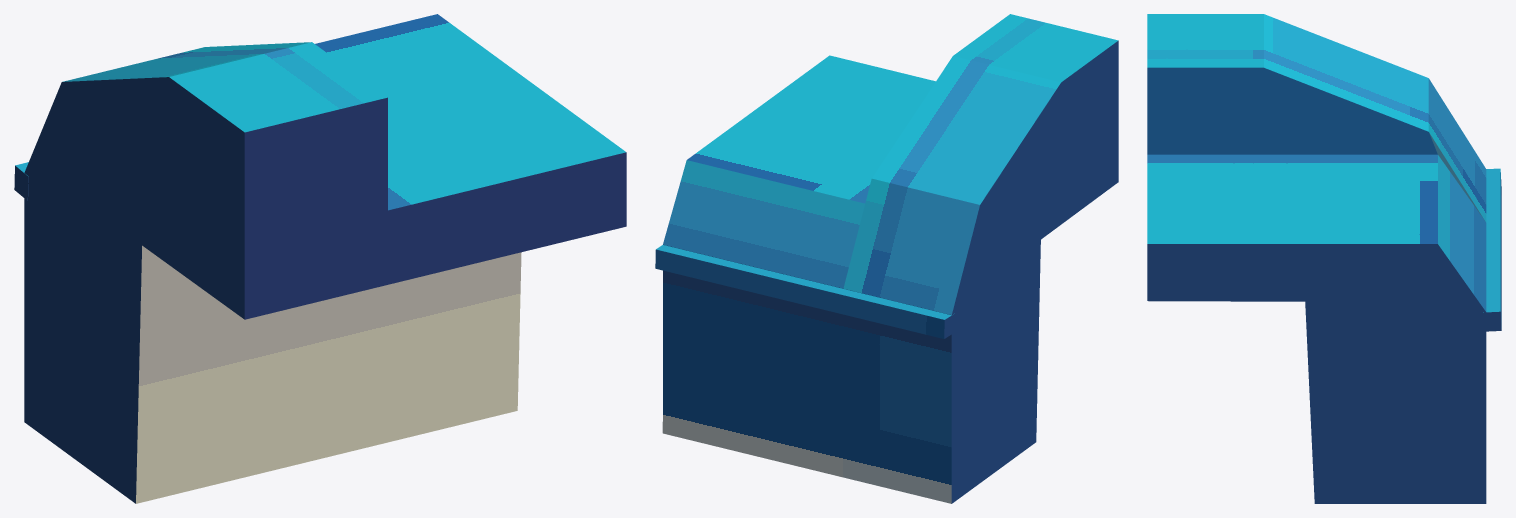
Rendered from df5_carport_3_lh.obj.
3 views of the same model, side by side, from view 1: azimuth 30°, elevation 25°; view 2: azimuth 150°, elevation 25°; view 3: azimuth 270°, elevation 25° (orthographic). The views are drawn at different scales.
Parts seen in each view (by area): view 1: cube_selection; view 2: cube_selection; view 3: cube_selection.
Boxes of the visible parts, <box> form: cube_selection: <box>14,14,626,503</box>; cube_selection: <box>655,14,1118,503</box>; cube_selection: <box>1147,14,1501,503</box>.
Bounding box in the file's own units: 1 × 1.13 × 1.05.
